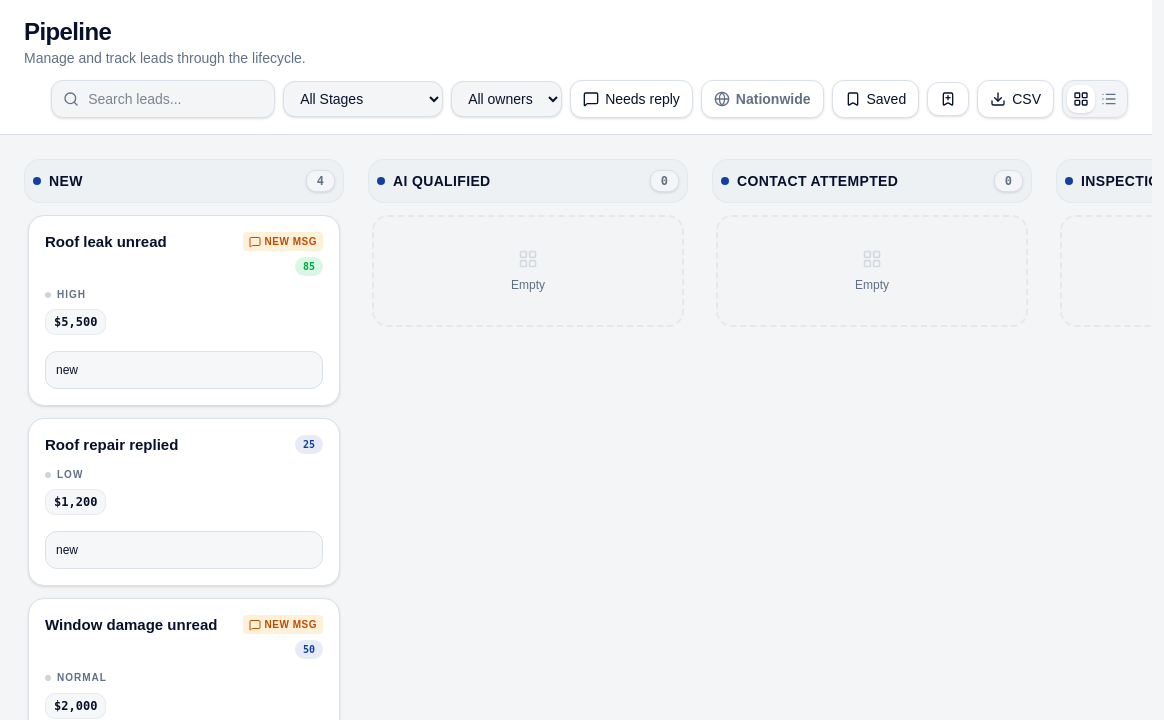
Pipeline "Needs reply" filter › stacked search + needs-reply filters › shows only leads matching both search and needs-reply when both filters are active
Expected: the link "Roof leak unread" is shown, x1=45 y1=232 x2=167 y2=253
Expected: the link "Roof repair replied" is shown, x1=45 y1=435 x2=178 y2=456
// Type a search term — server will return only the two "roof" leads.
Type "roof" into the search field with placeholder "Search leads..." at coordinates (163, 99), box x1=51 y1=80 x2=275 y2=118
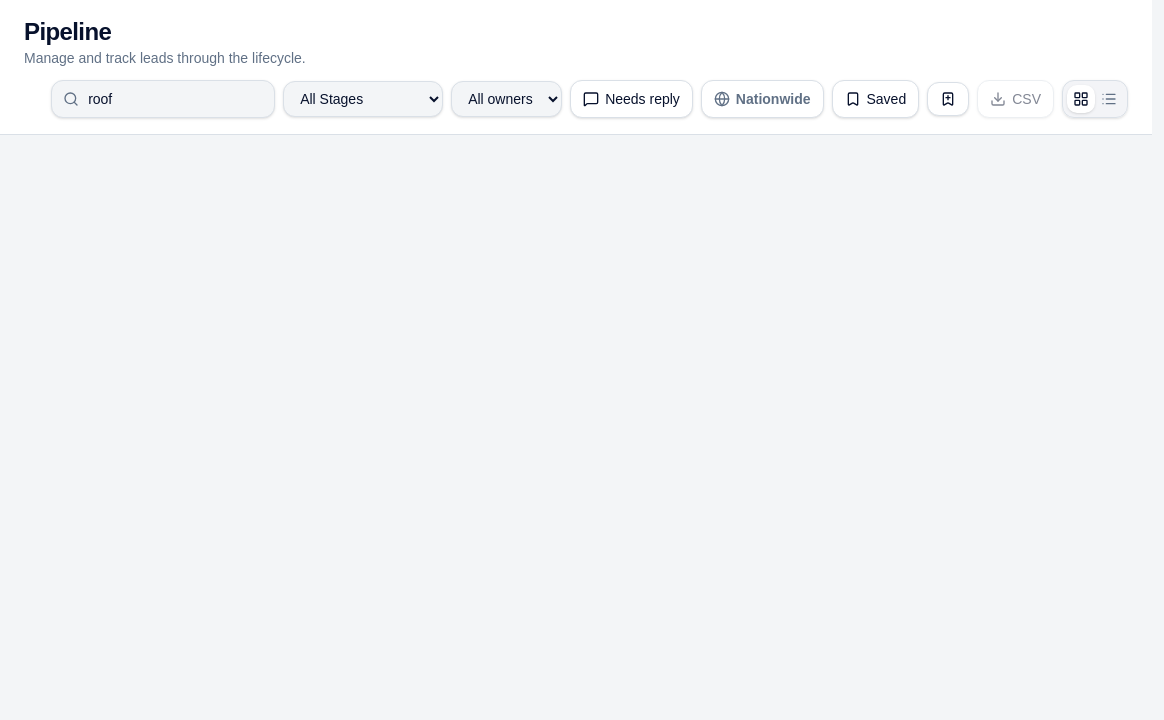
Now no links "Window damage unread" are shown
// Enable needs-reply → server returns only searchUnread.
Click the button with test id "needs-reply-filter" at coordinates (631, 99), box x1=570 y1=80 x2=693 y2=118
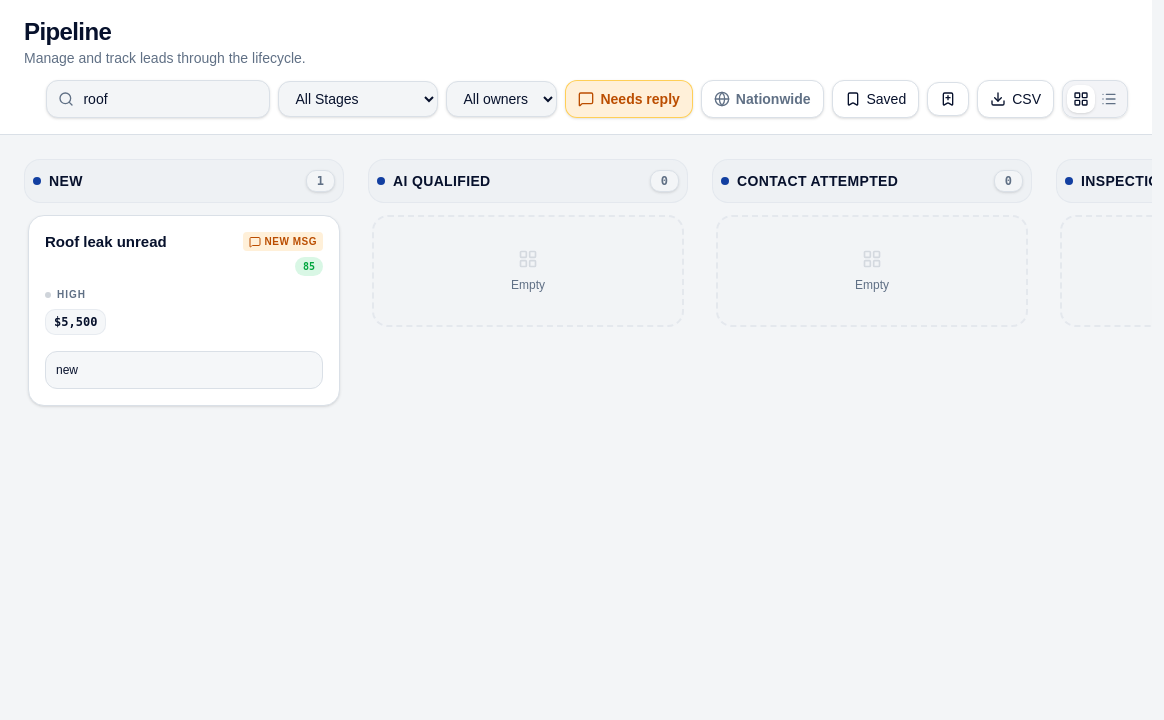
Now the link "Roof leak unread" is shown, box x1=45 y1=232 x2=167 y2=253
// Clear search → server returns all unread leads (search gone, hasUnread still true).
Clear the search field with placeholder "Search leads..." at coordinates (158, 99), box x1=46 y1=80 x2=270 y2=118
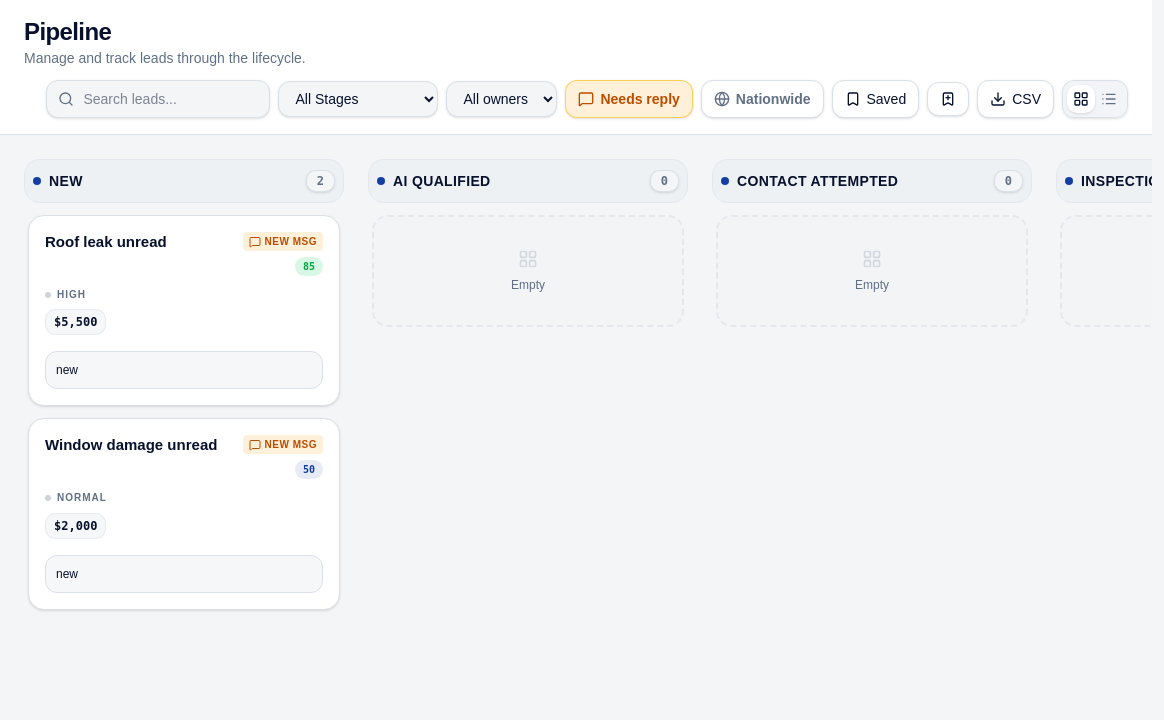
Now the link "Roof leak unread" is shown, box x1=45 y1=232 x2=167 y2=253
Now the link "Window damage unread" is shown, box x1=45 y1=435 x2=217 y2=456
